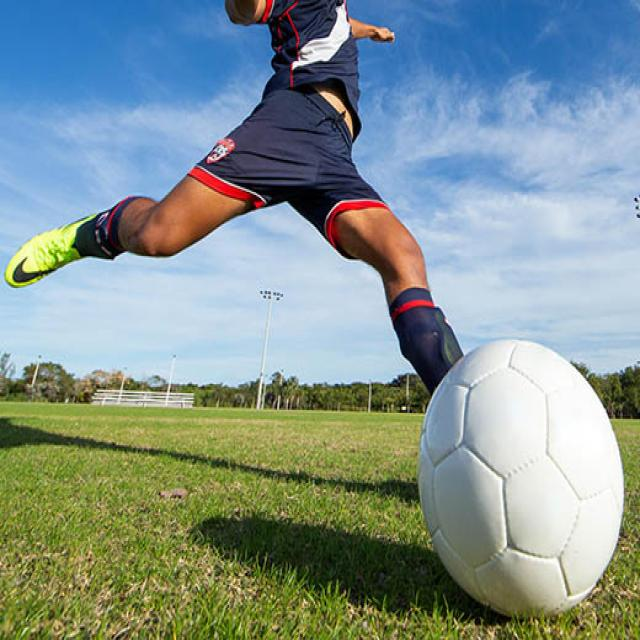soccer ball: (417, 340, 624, 616)
